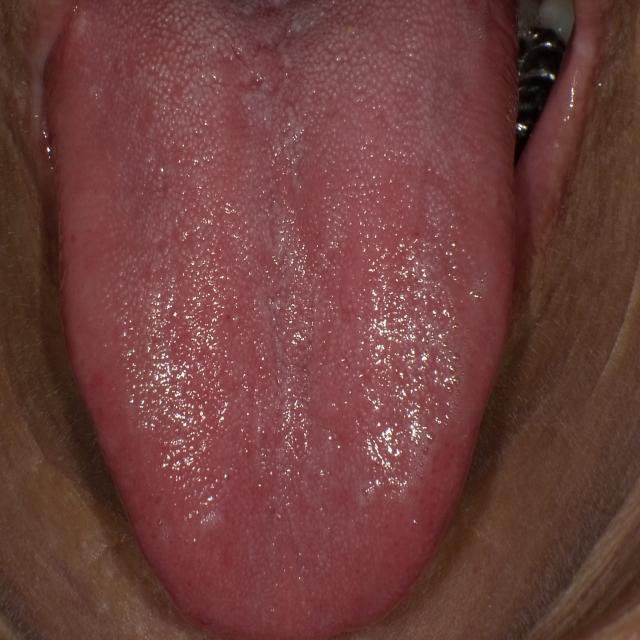baitaishe: (46, 3, 520, 640)
hongshe: (46, 3, 520, 640)
huataishe: (399, 270, 490, 502)
